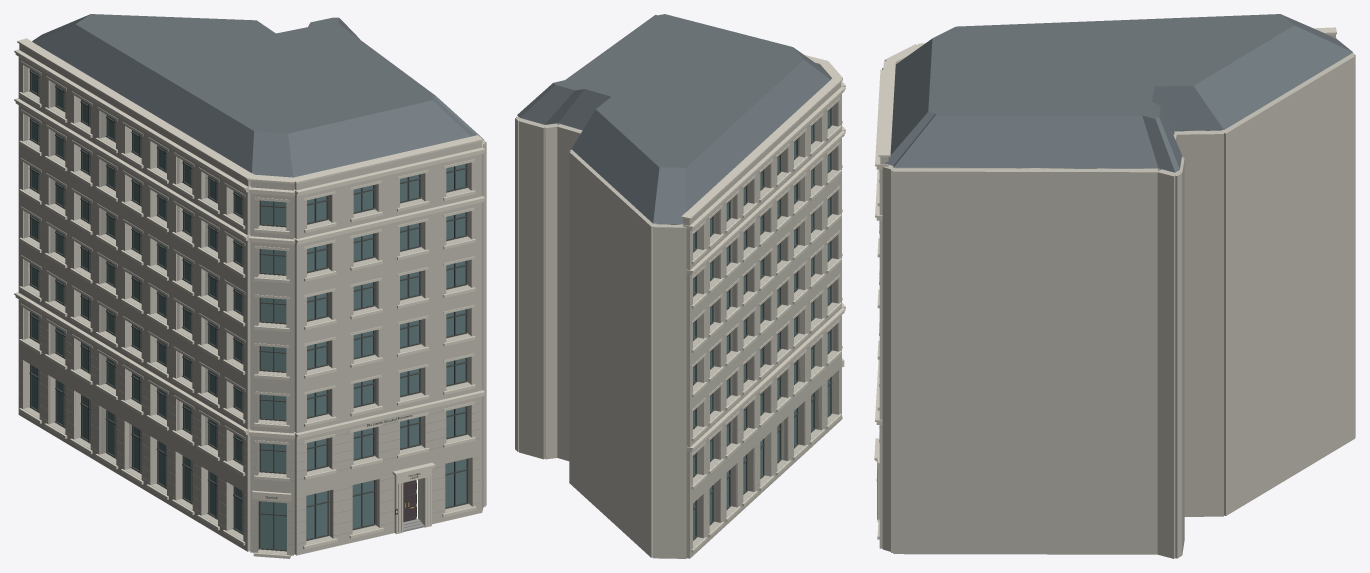
The model's file is col-exterior-d13dee626dd7.glb.
3 views of the same model, side by side, from view 1: azimuth 30°, elevation 25°; view 2: azimuth 150°, elevation 25°; view 3: azimuth 270°, elevation 25° (orthographic). The views are drawn at different scales.
Parts seen in each view (by area): view 1: COL.001; view 2: COL.001; view 3: COL.001.
Boxes of the visible parts, <box> form: COL.001: <box>14,14,486,558</box>; COL.001: <box>515,14,845,558</box>; COL.001: <box>874,14,1355,558</box>.
Size of the model in its own units: 20.48 by 29.2 by 29.87.
